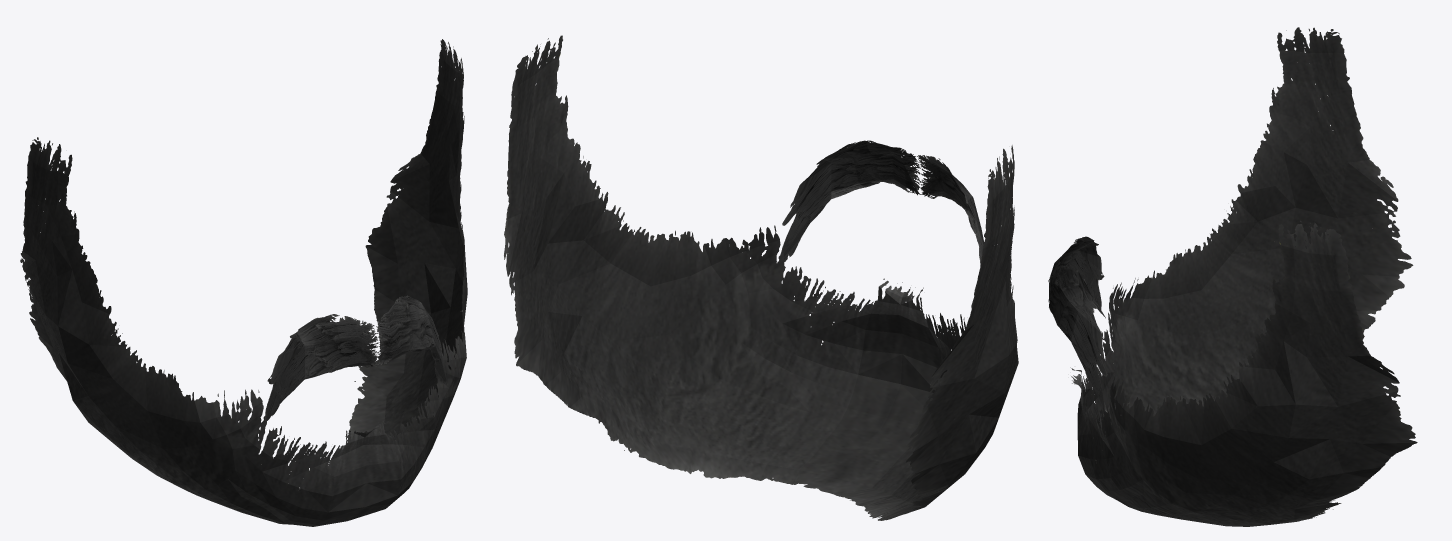
The model's file is ewb_beard_full.glb.
The picture shows the model from 3 angles, left to right: view 1: azimuth 30°, elevation 25°; view 2: azimuth 150°, elevation 25°; view 3: azimuth 270°, elevation 25°; orthographic projection. The views are drawn at different scales.
Parts seen in each view (by area): view 1: ewb_beard_full; view 2: ewb_beard_full; view 3: ewb_beard_full.
Boxes of the visible parts, <box> form: ewb_beard_full: <box>20,39,467,526</box>; ewb_beard_full: <box>504,35,1018,520</box>; ewb_beard_full: <box>1048,27,1417,526</box>.
Bounding box in the file's own units: 0.1463 × 0.1299 × 0.1187.
Materials: 1 (1 with a texture image).
